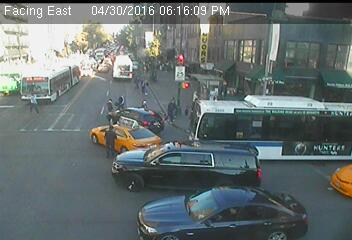neg: (162, 167, 190, 204), (221, 173, 248, 210), (52, 155, 76, 188), (191, 47, 209, 71), (300, 139, 318, 163), (50, 57, 67, 79), (268, 124, 284, 146), (92, 56, 106, 73), (121, 46, 134, 63), (254, 63, 266, 78)
pos: (98, 122, 128, 161), (162, 93, 186, 124), (102, 98, 118, 120), (25, 90, 41, 112), (117, 92, 130, 109)
